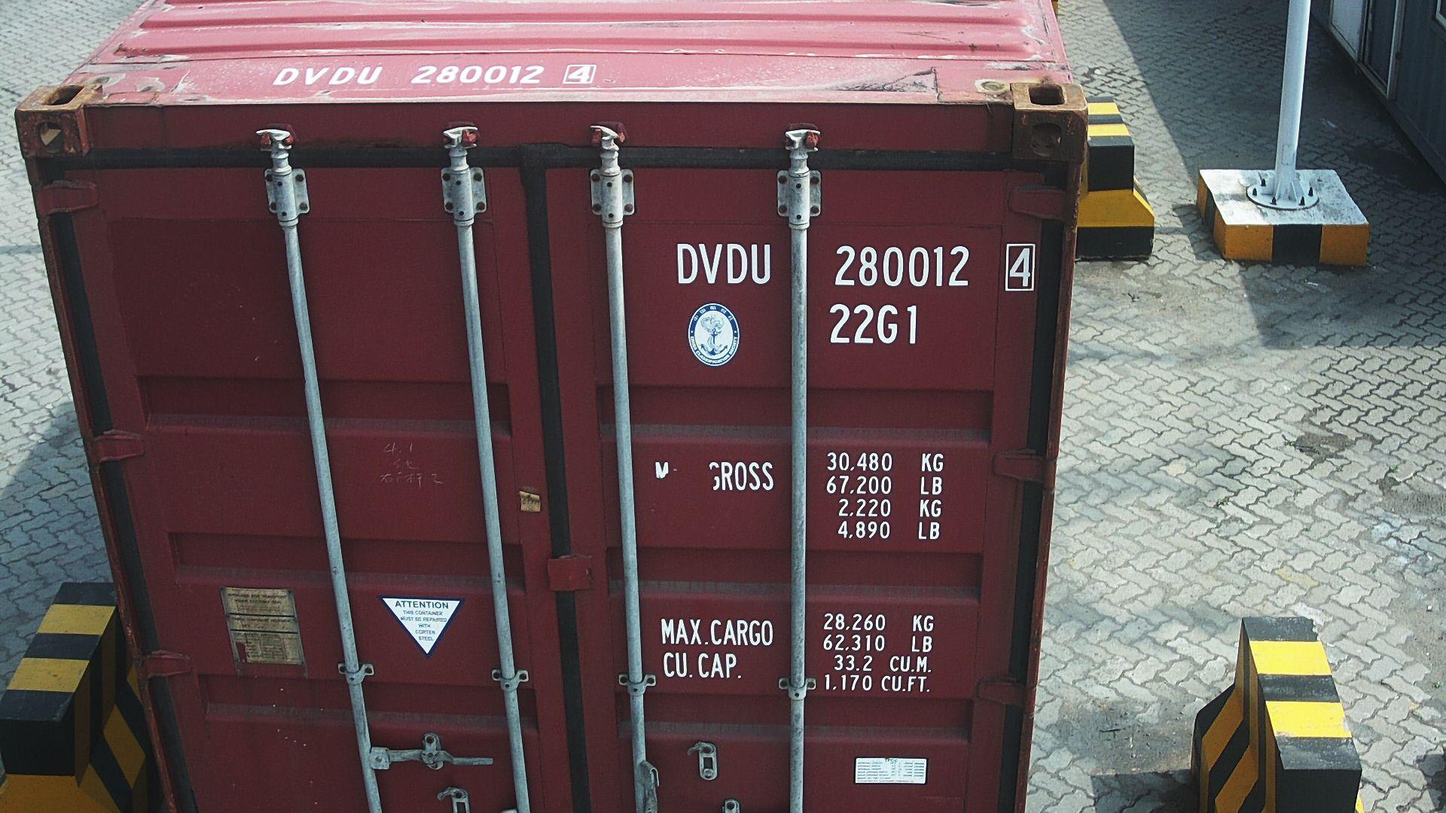container-numbers: (671, 239, 1043, 294), (261, 59, 603, 87), (824, 300, 922, 348)
